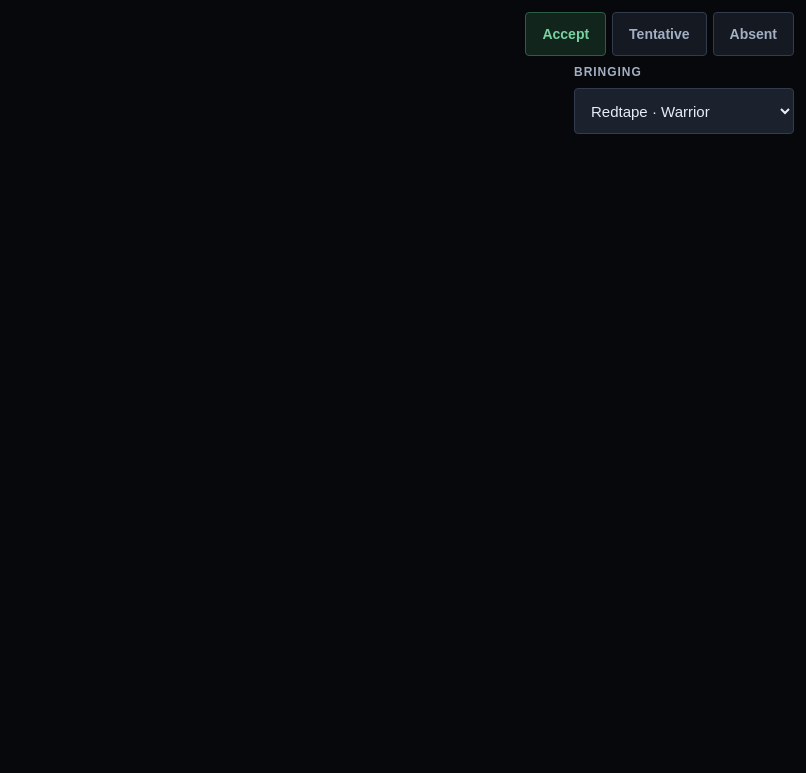
Test case: RaidResponseControl character choice › reverts and becomes read-only after a lock refusal
The width and height of the screenshot is (806, 773).
Select "Triplicate · Mage" in the dropdown labelled "Bringing" at (684, 111), box [574,88,794,134]
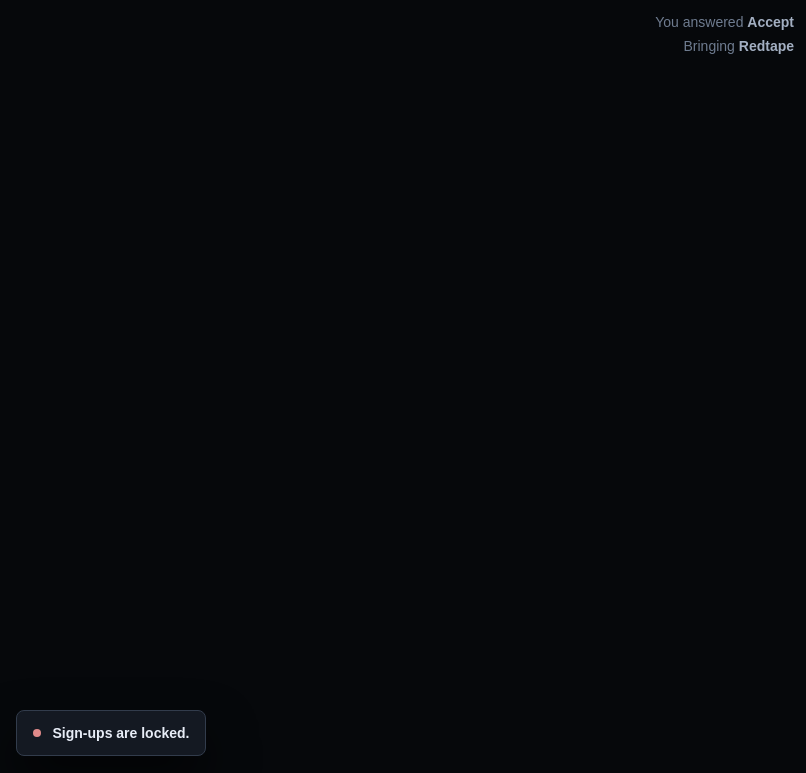
Now the dropdown is gone
Now the text "You answered Accept" is shown, box [655,12,794,32]
Now the text "Bringing Redtape" is shown, box [684,36,794,56]
